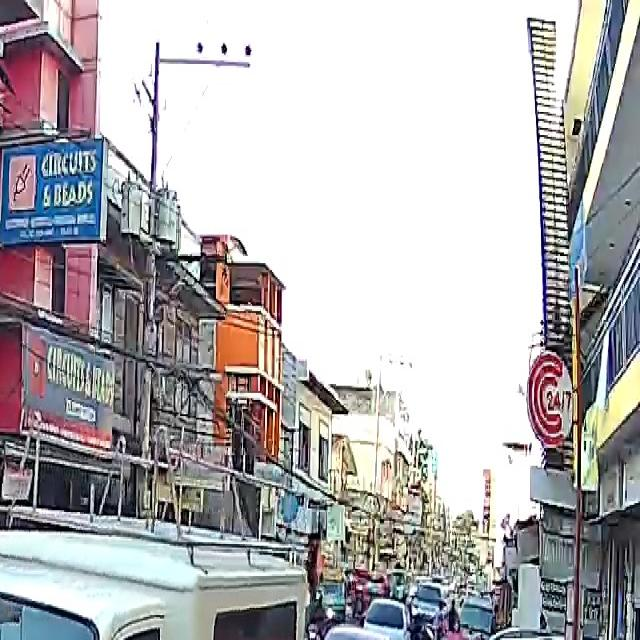car: (468, 629, 640, 640), (363, 599, 409, 639), (302, 627, 414, 640)
